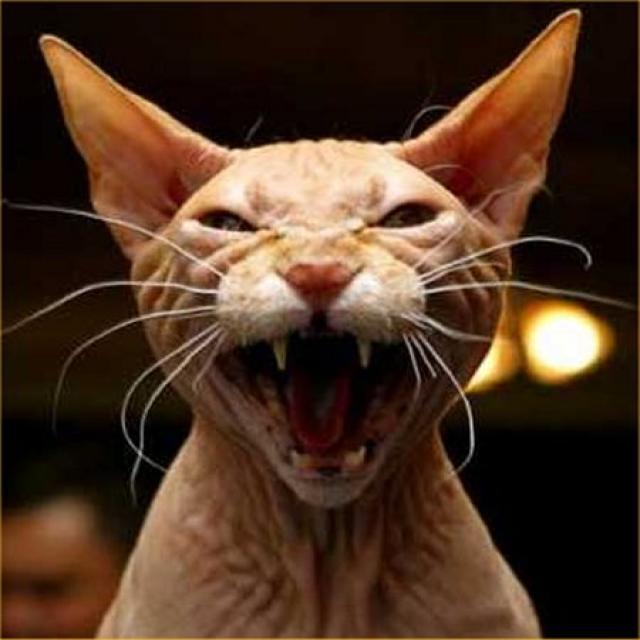Sphynx: (31, 0, 584, 506)
